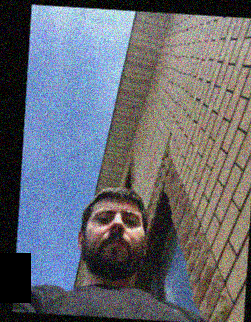without_mask: (85, 206, 144, 278)
